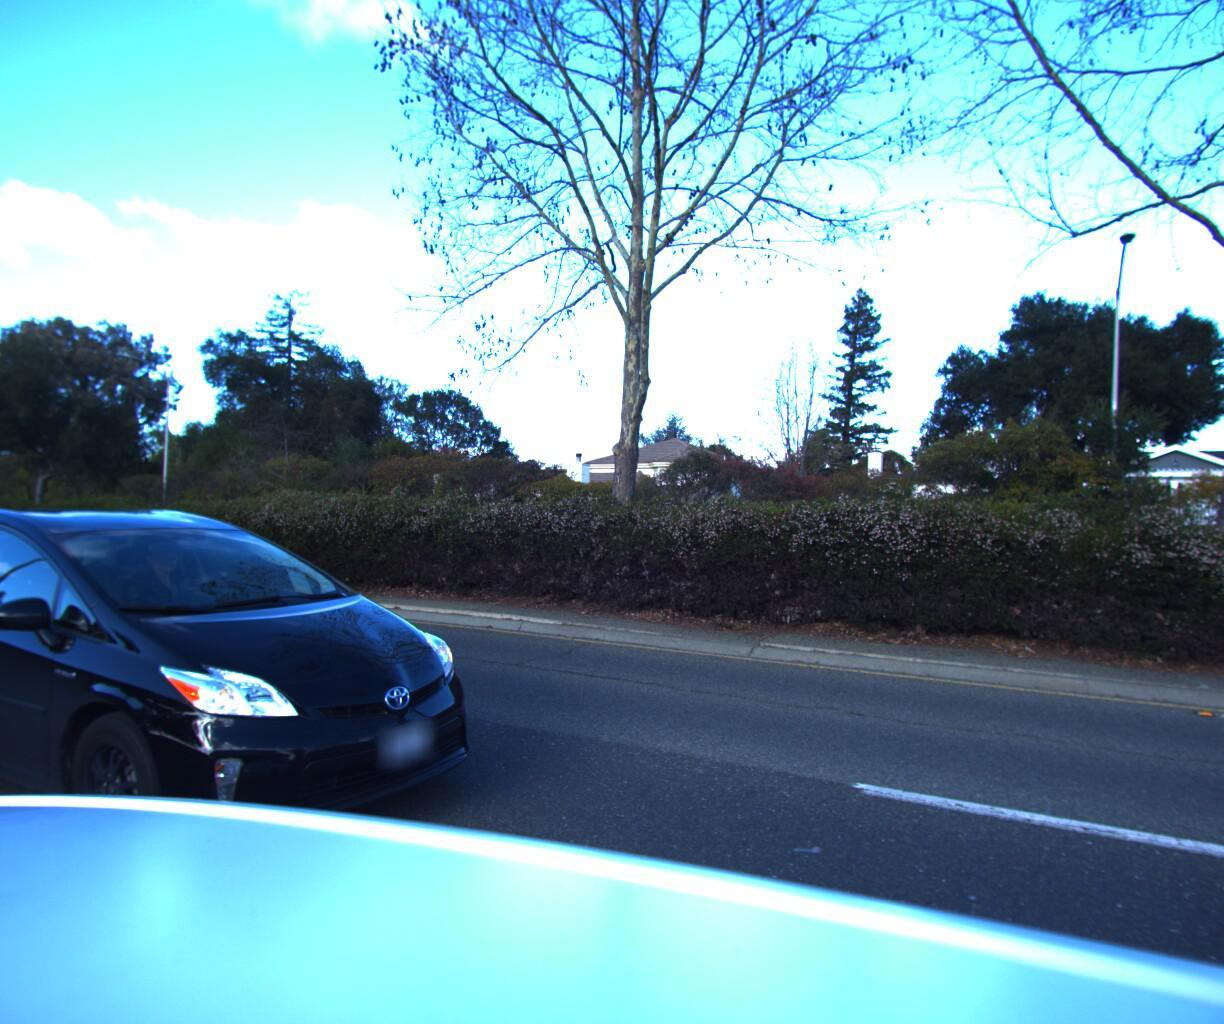car: (0, 496, 523, 933)
